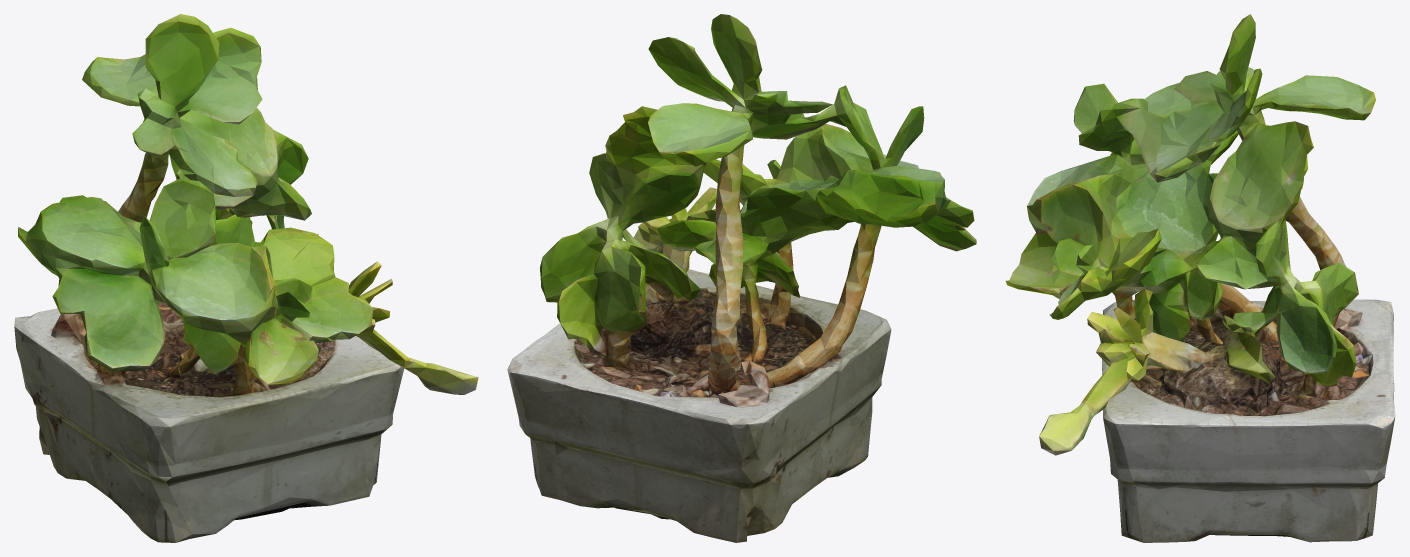
The model's file is BROARD_LEAF_SUCCULENT_5K.dae.
The picture shows the model from 3 angles, left to right: view 1: azimuth 30°, elevation 25°; view 2: azimuth 150°, elevation 25°; view 3: azimuth 270°, elevation 25°; orthographic projection.
Visible parts, largest first — view 1: BROARD_LEAF_SUCCULENT_5K; view 2: BROARD_LEAF_SUCCULENT_5K; view 3: BROARD_LEAF_SUCCULENT_5K.
Boxes of the visible parts, x1,y1,x2,y2 form: BROARD_LEAF_SUCCULENT_5K: (14,14,478,542); BROARD_LEAF_SUCCULENT_5K: (507,14,976,542); BROARD_LEAF_SUCCULENT_5K: (1005,14,1395,542).
Bounding box in the file's own units: 0.3482 × 0.3134 × 0.4071.
Materials: 1 (1 with a texture image).
